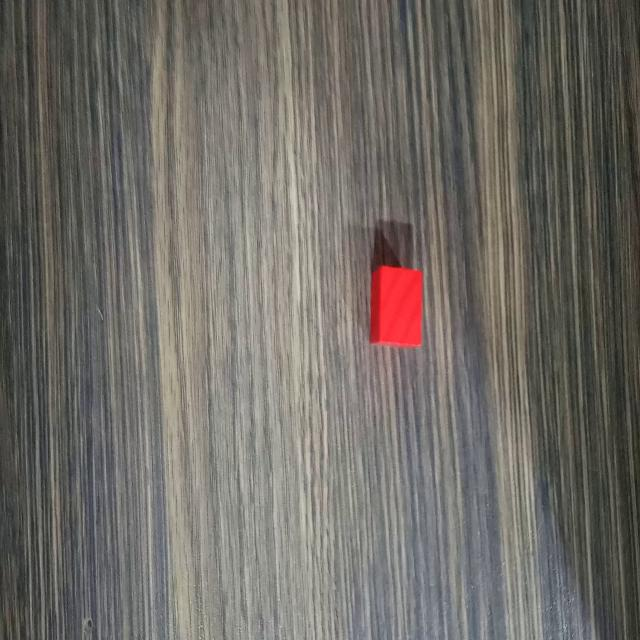cube: (365, 260, 425, 355)
